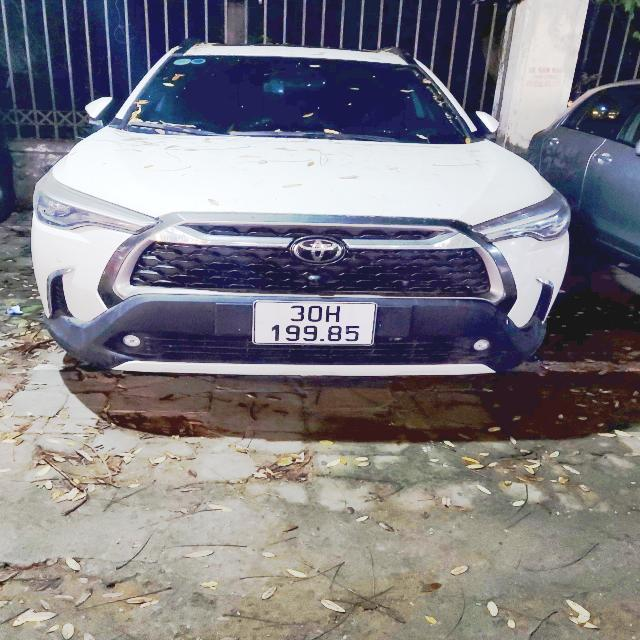license_plate: (253, 300, 380, 347)
